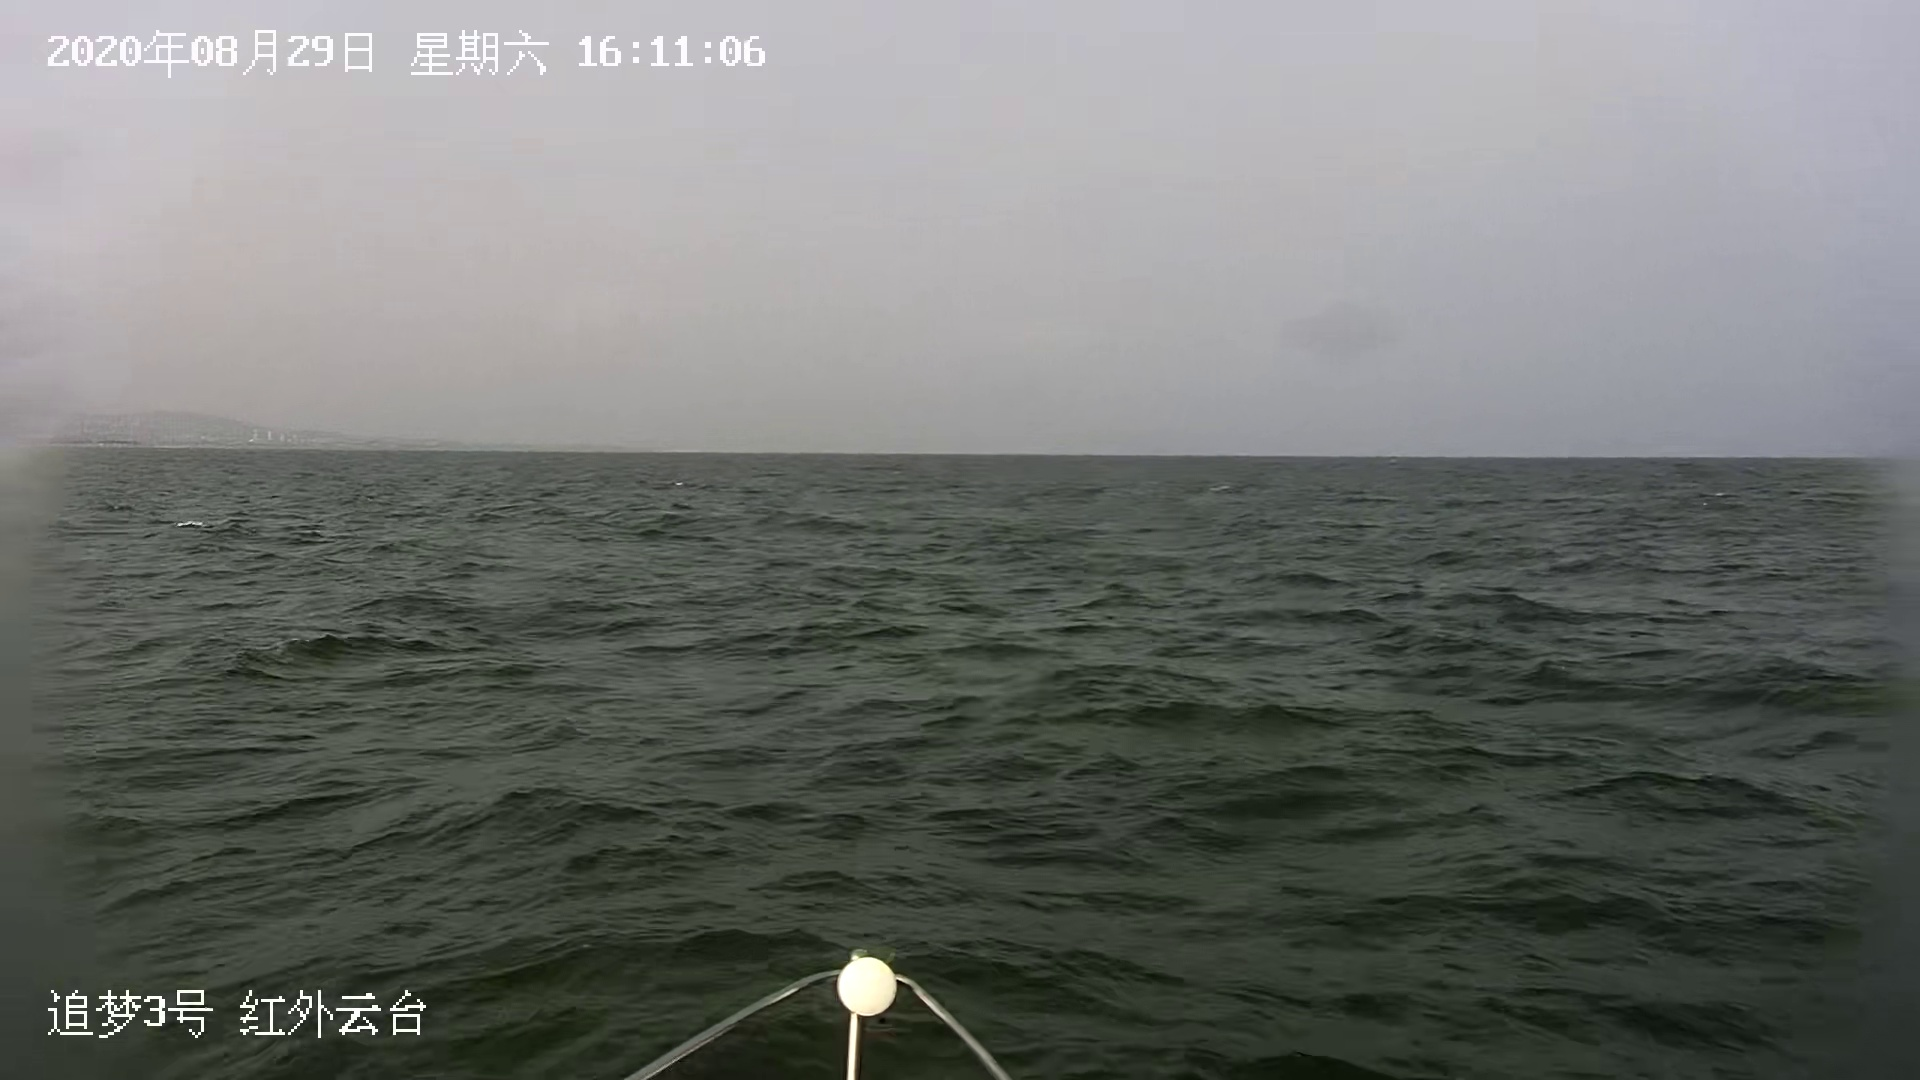coast: (9, 402, 477, 450)
